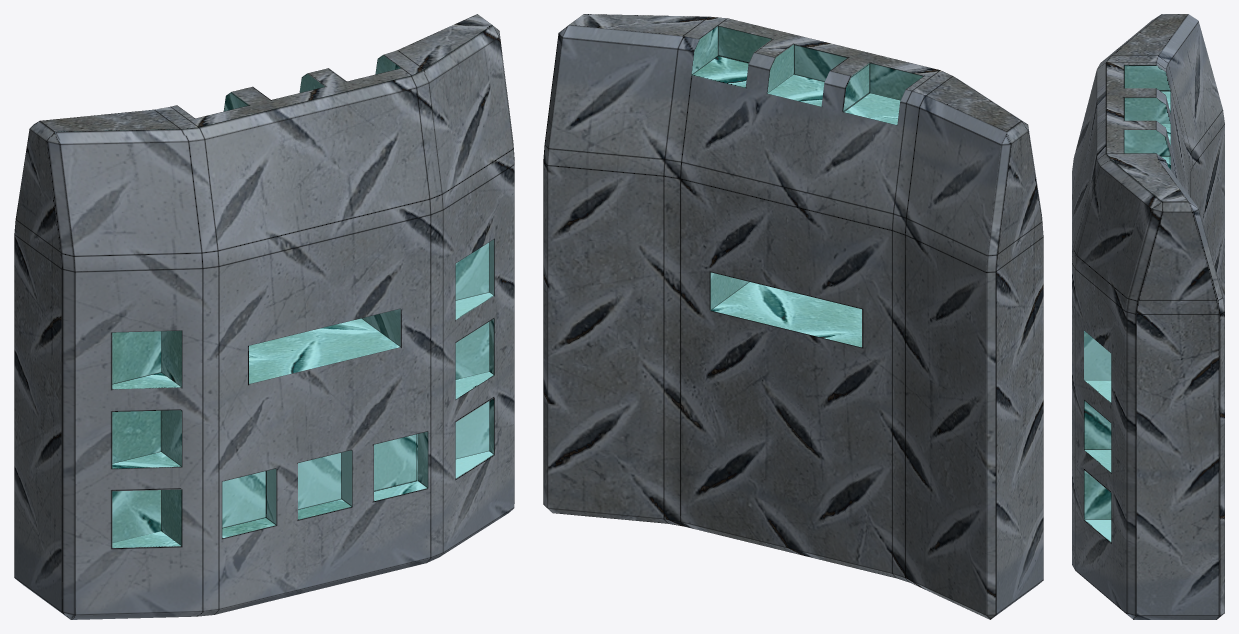
Rendered from wall.fbx.
3 views of the same model, side by side, from view 1: azimuth 30°, elevation 25°; view 2: azimuth 150°, elevation 25°; view 3: azimuth 270°, elevation 25° (orthographic). The views are drawn at different scales.
Parts seen in each view (by area): view 1: polySurface10; view 2: polySurface10; view 3: polySurface10.
Part boxes in pixels (x1,y1,x2,y2): polySurface10: (14,14,514,619); polySurface10: (543,14,1043,619); polySurface10: (1072,14,1224,619).
Bounding box in the file's own units: 2.99 × 3 × 0.9943.
